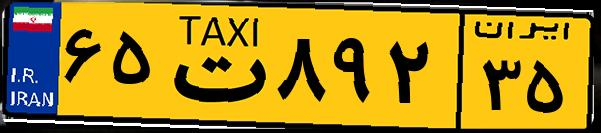2: (385, 28, 445, 110)
3: (475, 38, 525, 113)
5: (525, 38, 570, 115), (110, 28, 158, 98)
6: (57, 26, 110, 100)
8: (270, 28, 330, 110)
9: (330, 28, 385, 110)
ت: (158, 12, 270, 120)
